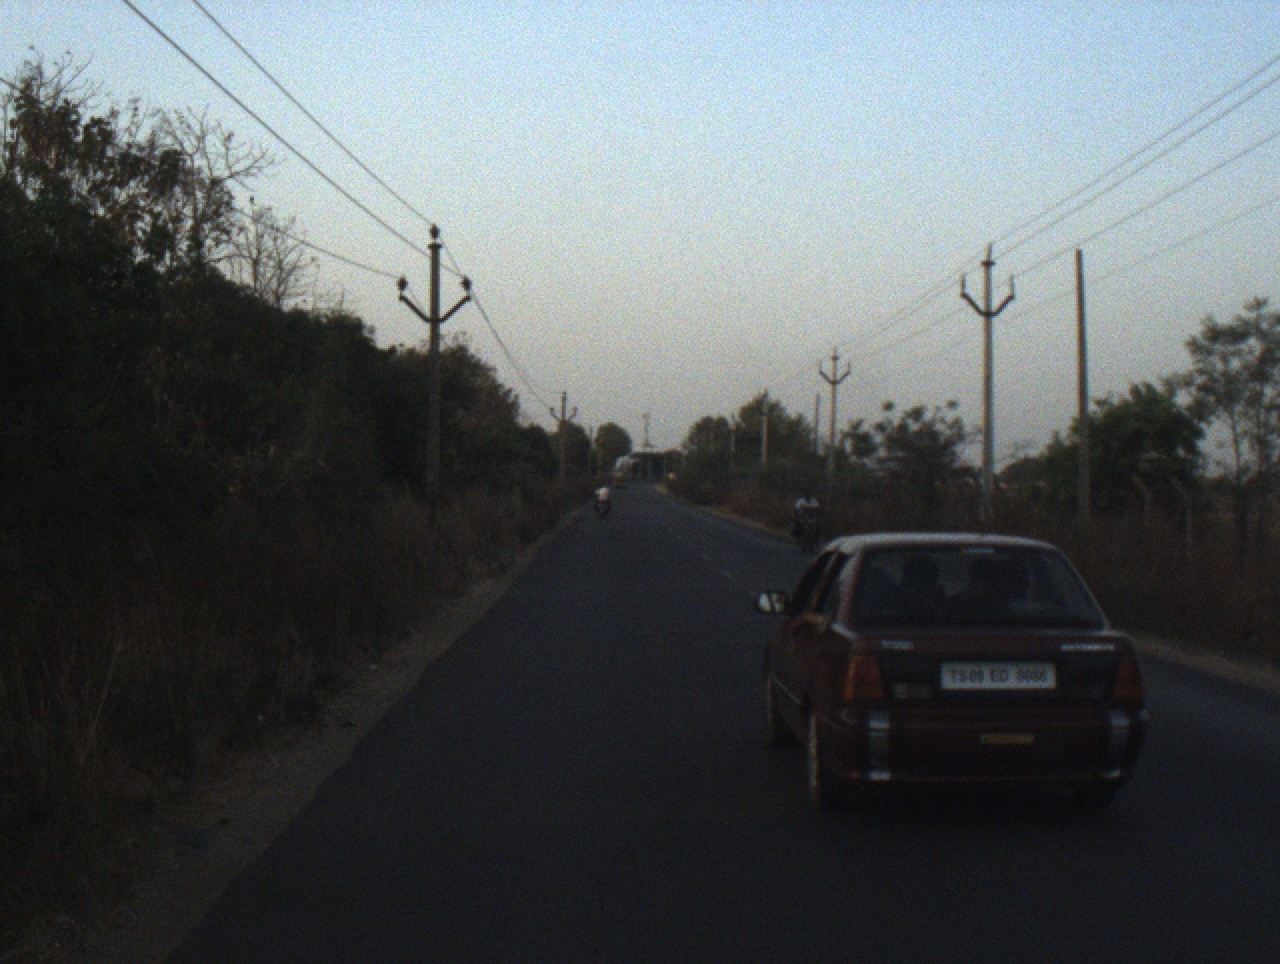autorickshaw: (612, 470, 629, 492)
car: (744, 531, 1151, 844)
motorcycle: (792, 510, 820, 558), (594, 497, 608, 520)
rider: (789, 489, 822, 553), (591, 482, 614, 514)
